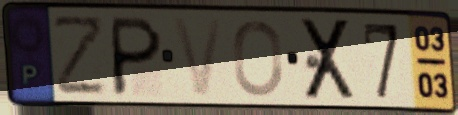7: (360, 20, 402, 100)
O: (231, 18, 286, 99)
P: (109, 13, 166, 99)
V: (169, 15, 226, 99)
X: (298, 16, 359, 103)
Z: (50, 13, 110, 98)
